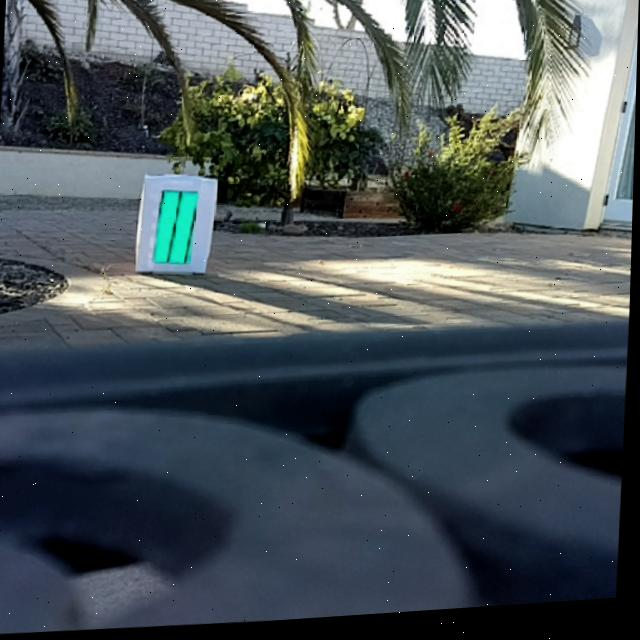led: (158, 187, 195, 270)
